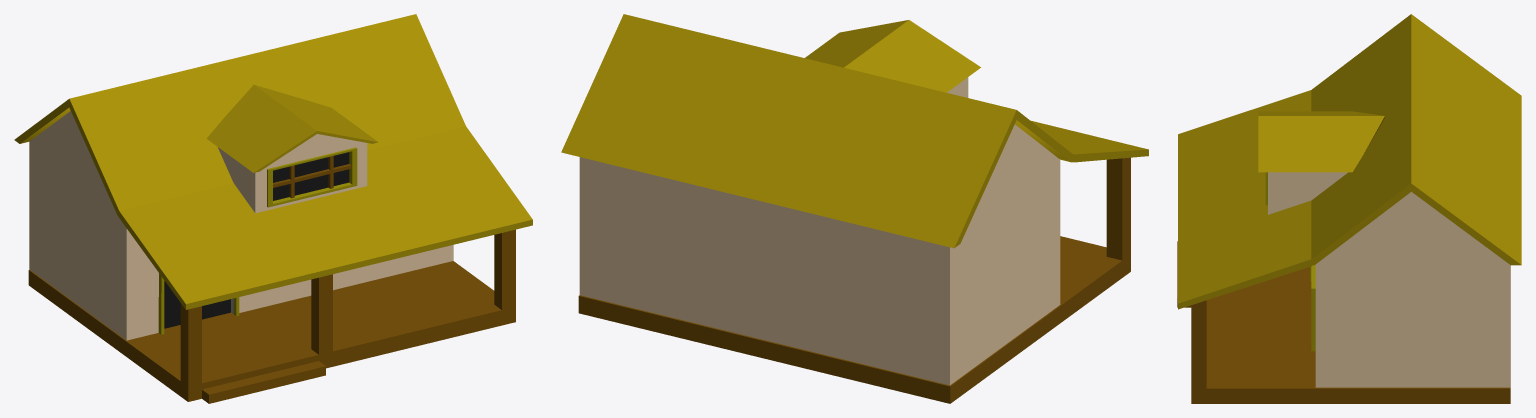
Rendered from house_5.fbx.
The picture shows the model from 3 angles, left to right: view 1: azimuth 30°, elevation 25°; view 2: azimuth 150°, elevation 25°; view 3: azimuth 270°, elevation 25°; orthographic projection. The views are drawn at different scales.
Visible parts, largest first — view 1: House_will1_pCube165; view 2: House_will1_pCube165; view 3: House_will1_pCube165.
Boxes of the visible parts, box(x1,y1,x2,y2) form: House_will1_pCube165: box(14, 14, 532, 403); House_will1_pCube165: box(561, 14, 1148, 403); House_will1_pCube165: box(1177, 14, 1521, 403).
Bounding box in the file's own units: 21.7 × 13.47 × 18.65.
